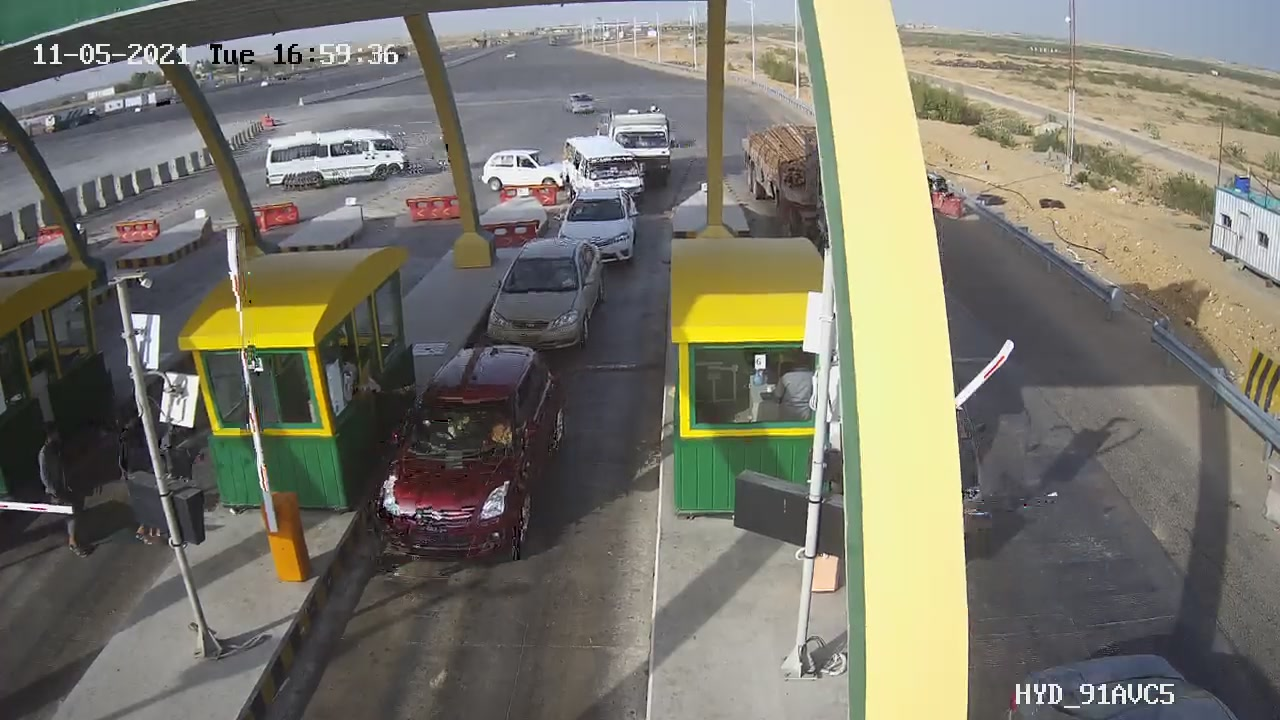F1: (362, 329, 588, 579), (471, 224, 624, 372)
